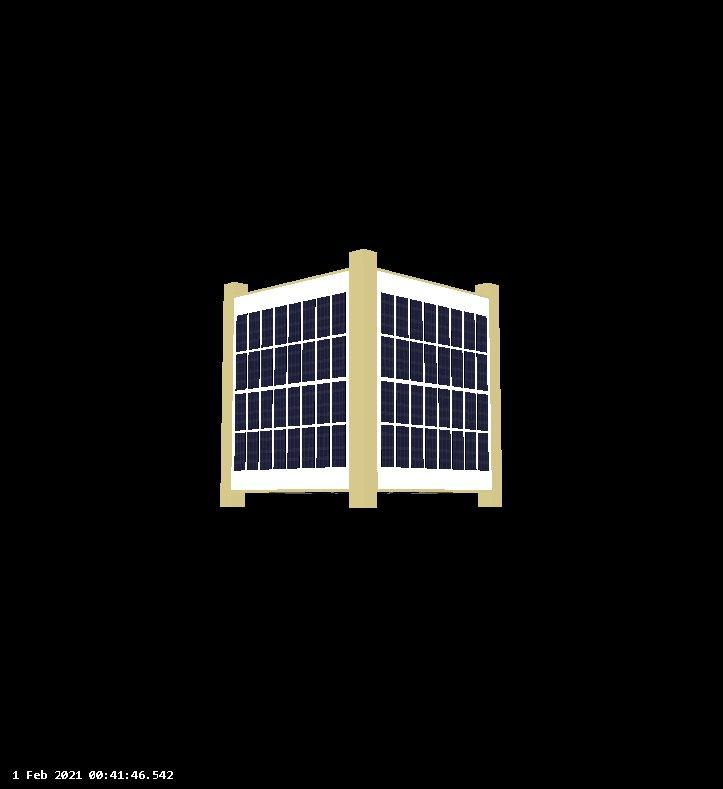body: (218, 246, 505, 511)
solar: (232, 290, 348, 473), (378, 289, 491, 474)
